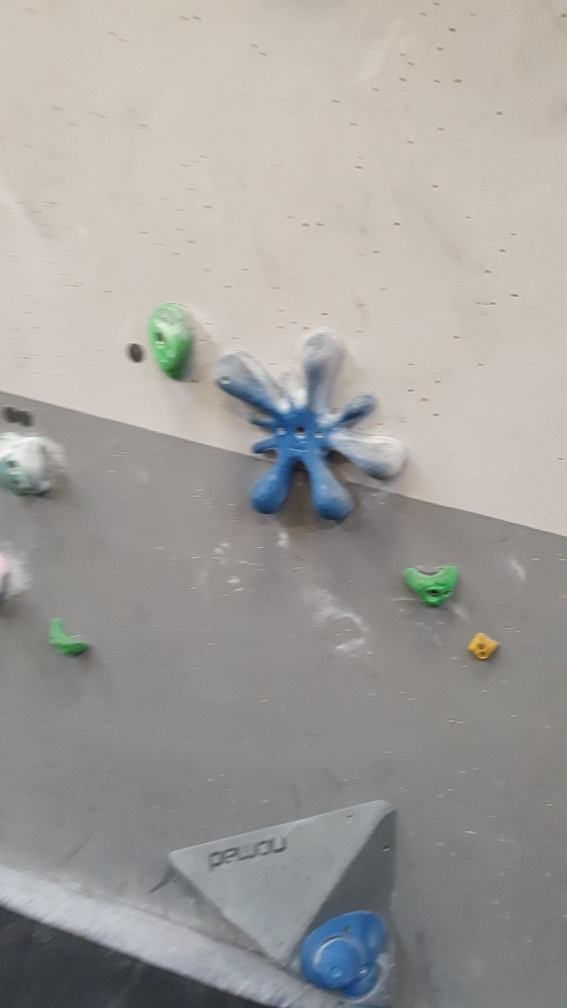Hand Start: (126, 342, 148, 367), (17, 402, 33, 434), (6, 406, 17, 422)
Jug: (140, 303, 204, 382), (406, 560, 463, 612), (49, 617, 90, 660)
Octopus Pinch: (212, 326, 413, 529)
Sloper: (301, 905, 395, 1004)
